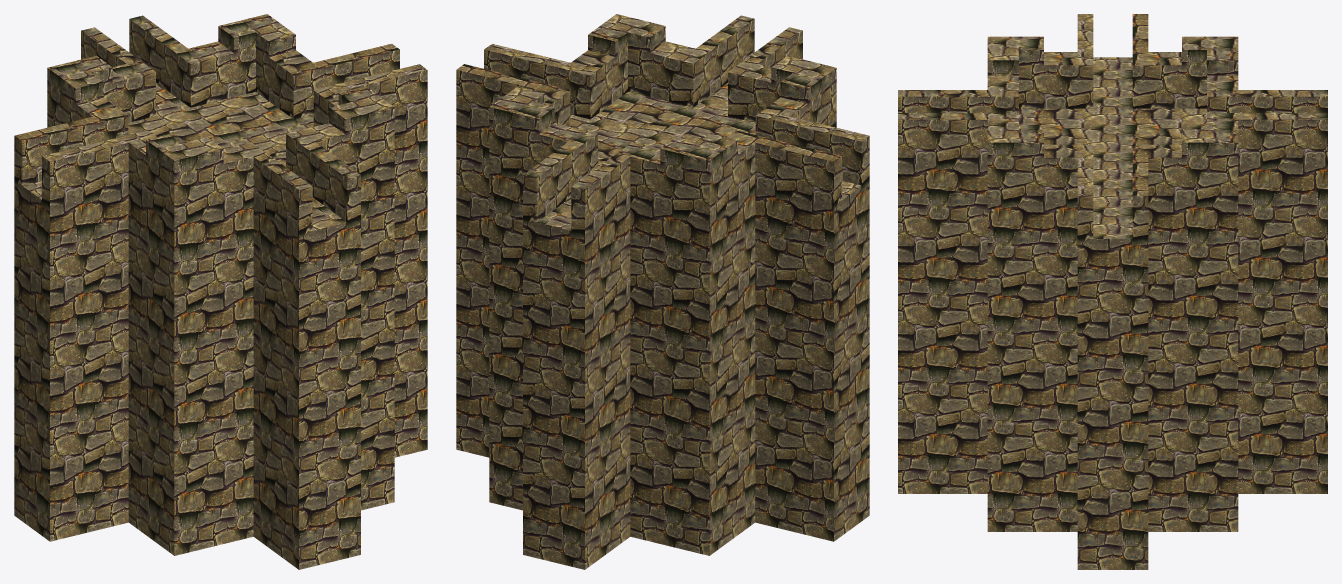
Rendered from Muro.FBX.
The picture shows the model from 3 angles, left to right: view 1: azimuth 30°, elevation 25°; view 2: azimuth 150°, elevation 25°; view 3: azimuth 270°, elevation 25°; orthographic projection.
Visible parts, largest first — view 1: Muro; view 2: Muro; view 3: Muro.
Boxes of the visible parts, bbox=[...] form: Muro: bbox=[14, 14, 427, 569]; Muro: bbox=[456, 14, 869, 569]; Muro: bbox=[898, 14, 1327, 569].
Bounding box in the file's own units: 1 × 1 × 1.
Materials: 1 (1 with a texture image).
